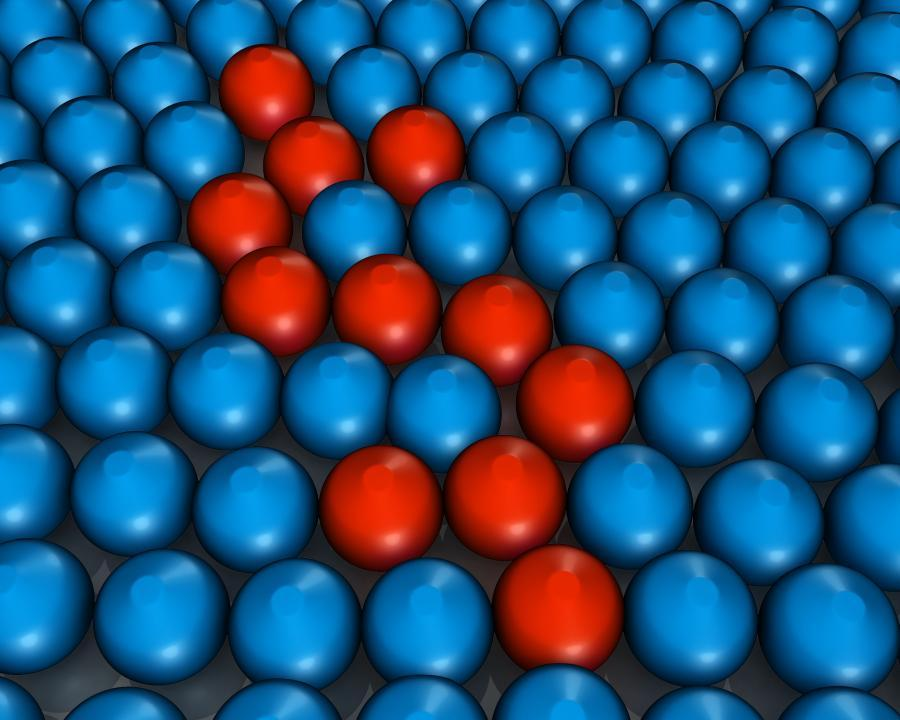Red_Ball: (309, 427, 444, 568), (493, 537, 619, 675), (440, 259, 556, 392), (518, 342, 645, 462), (441, 440, 562, 565), (181, 155, 297, 280), (214, 240, 335, 357), (340, 250, 438, 369), (209, 32, 310, 139), (367, 100, 461, 204), (267, 106, 357, 210)
